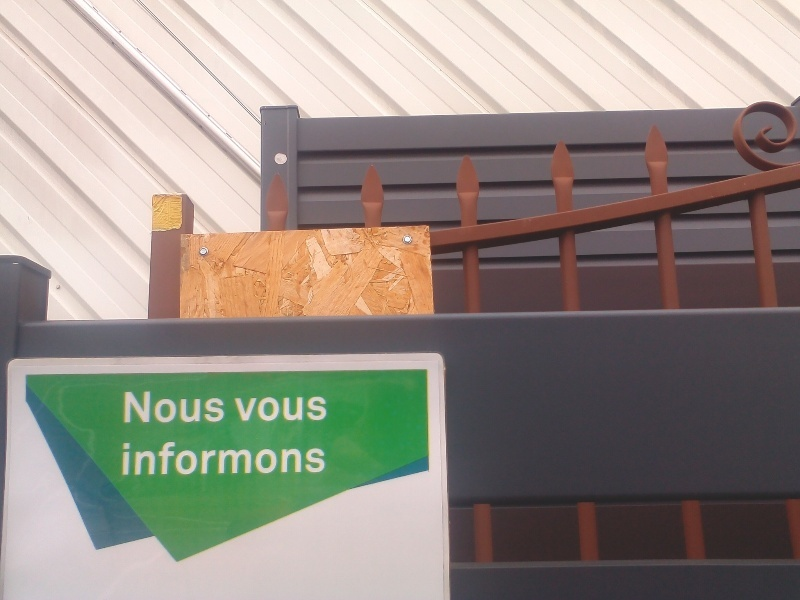text: (129, 442, 144, 476), (145, 442, 160, 476), (161, 442, 176, 476), (177, 442, 192, 476), (193, 442, 208, 476), (209, 442, 224, 476), (225, 442, 240, 476), (241, 442, 256, 476), (257, 442, 272, 476), (273, 442, 288, 476), (289, 442, 304, 476), (305, 442, 320, 476), (129, 391, 144, 423), (145, 391, 160, 423), (161, 391, 176, 423), (177, 391, 192, 423), (193, 391, 208, 423), (209, 391, 224, 423), (241, 397, 256, 422), (257, 397, 272, 422), (273, 397, 288, 422), (289, 397, 304, 422), (305, 397, 320, 422), (122, 442, 128, 476), (321, 442, 326, 476), (234, 397, 240, 422), (321, 397, 327, 422), (124, 391, 128, 423), (225, 391, 226, 423)
